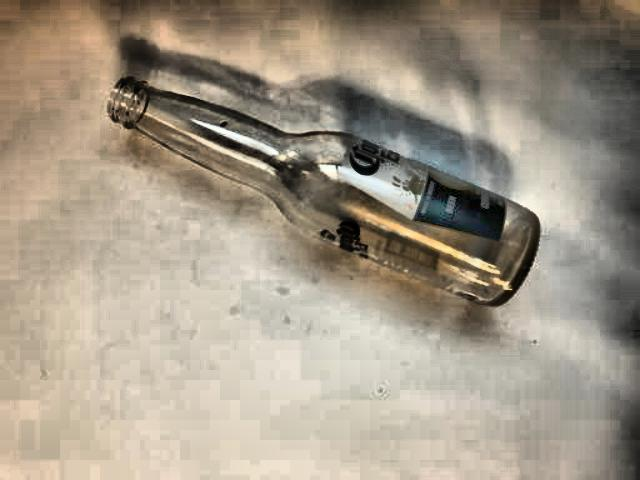Bottles: (92, 62, 548, 340)
